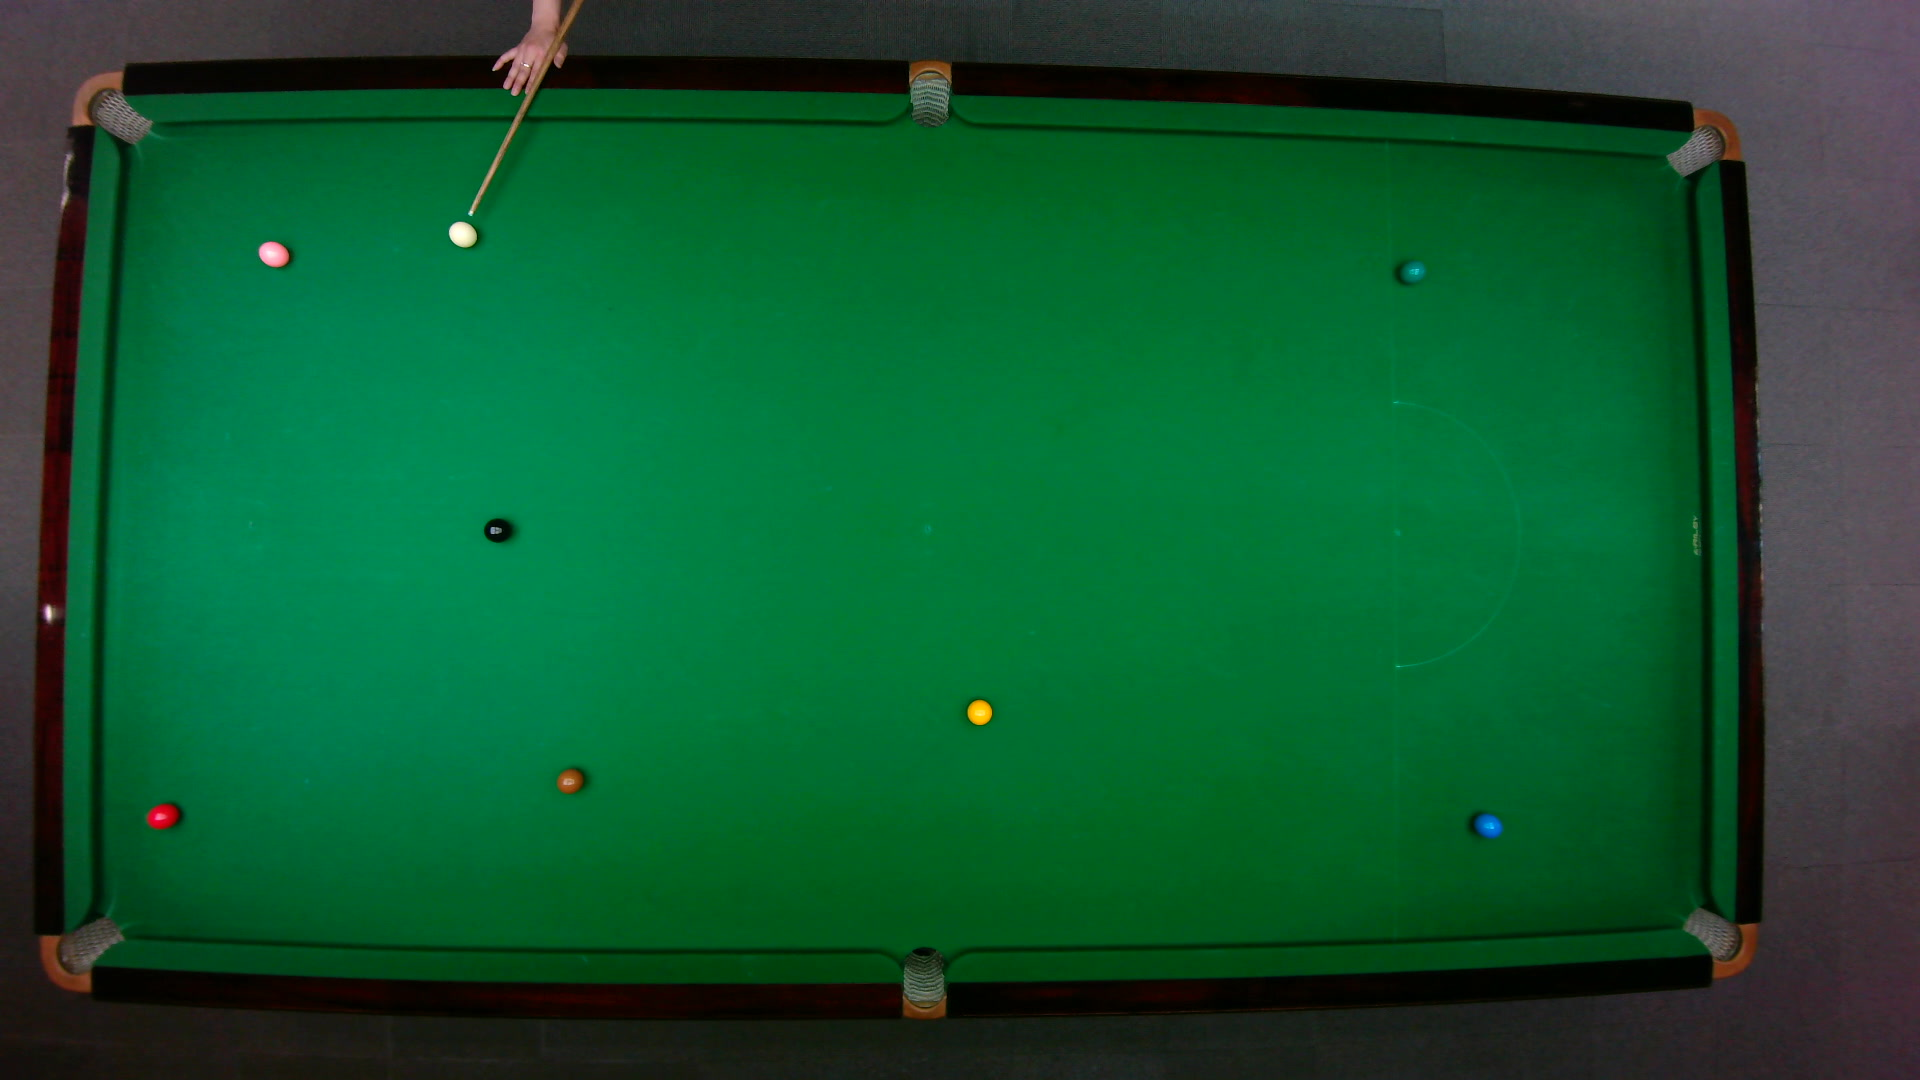bag: (38, 914, 125, 992), (69, 69, 153, 145), (1679, 905, 1756, 978), (1663, 107, 1741, 178), (901, 944, 944, 1021), (909, 57, 949, 128)
black: (483, 516, 512, 542)
blue: (1472, 811, 1503, 837)
brown: (555, 766, 584, 794)
cue: (465, 0, 579, 215)
green: (1396, 258, 1425, 284)
pink: (256, 237, 290, 268)
red: (144, 800, 179, 829)
white: (446, 219, 477, 248)
yellow: (965, 696, 993, 727)
zone: (1391, 400, 1520, 669)
